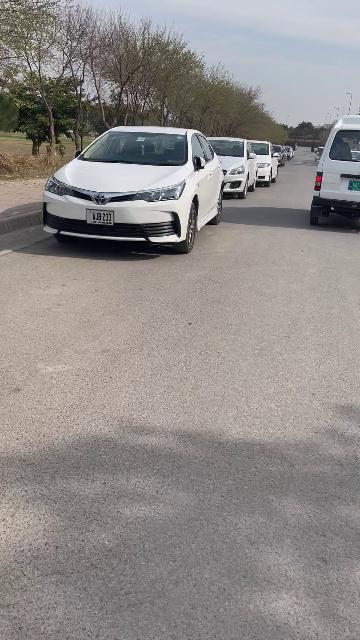plate: (86, 210, 115, 225), (348, 180, 360, 191)
